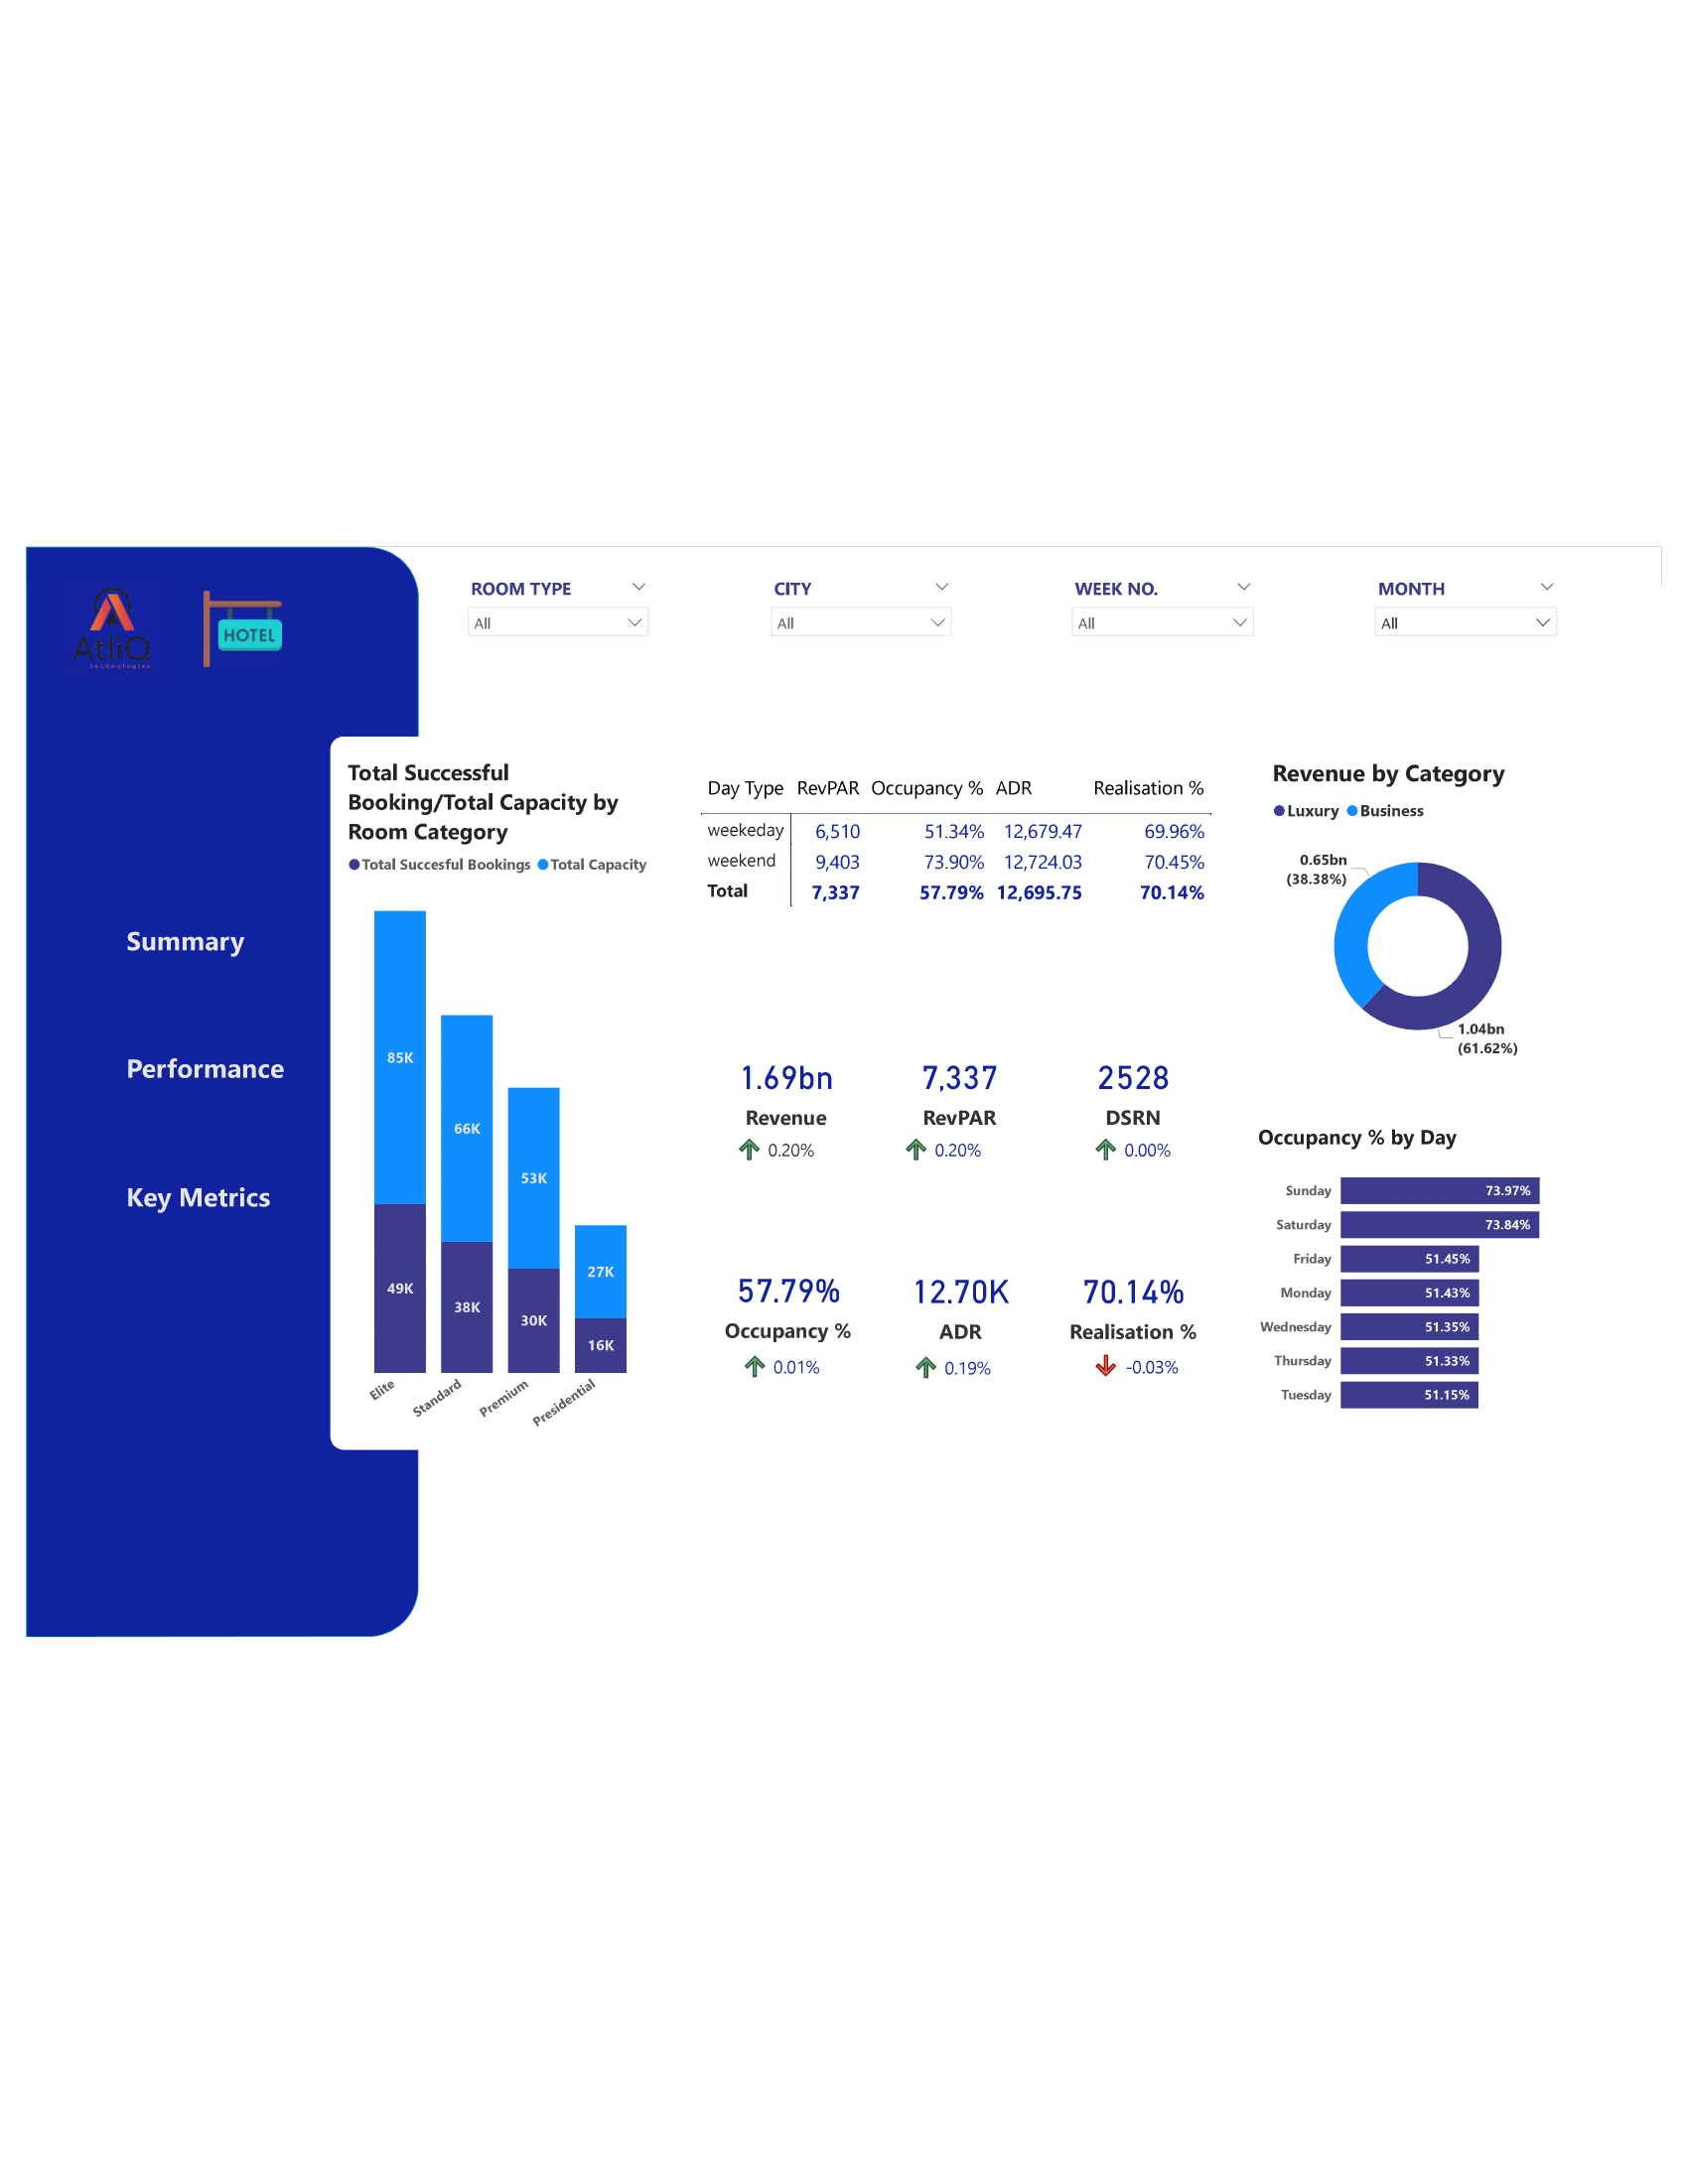

The page's visual inventory and layout, read from the dashboard file:
{"tool":"powerbi","page":{"name":"Summary","canvas":[1500,1000],"ordinal":0},"visuals":[{"type":"shape","box":[0,0,360.1,1000.3],"z":0},{"type":"shape","box":[610.3,174.1,496.6,179.3],"z":1000},{"type":"shape","box":[1124.1,172.4,312.1,315.5],"z":2000},{"type":"shape","box":[1124.1,512.1,312.1,313.8],"z":3000},{"type":"shape","box":[610.3,375.9,496.6,451.7],"z":4000},{"type":"pivotTable","fields":{"Rows":["dim_date.day_type"],"Values":["Key_Measures.RevPAR","Key_Measures.Occupancy %","Key_Measures.ADR","Key_Measures.Realisation %"]},"box":[614.8,200.4,480.6,137.6],"z":5000},{"type":"donutChart","title":"Revenue by Category","fields":{"Category":["dim_hotels.category"],"Y":["Key_Measures.Revenue"]},"box":[1137.9,191.9,276.8,290.4],"z":6000},{"type":"group","id":"g1","title":"Group 2","box":[613.9,459.1,484.5,327.6],"z":7000},{"type":"shape","box":[278.7,173.8,313.1,654.1],"z":8000},{"type":"lineStackedColumnComboChart","title":"Total Successful Booking/Total Capacity by Room Category","fields":{"Category":["dim_rooms.room_class"],"Y":["Key_Measures.Total Succesful Bookings","Key_Measures.Total Capacity"]},"box":[290.2,191.8,291.8,636.1],"z":9000},{"type":"clusteredBarChart","title":"Occupancy % by Day","fields":{"Category":["dim_date.DayName"],"Y":["Key_Measures.Occupancy %"]},"box":[1124.6,527.9,311.5,280.3],"z":10000},{"type":"actionButton","title":"Summary","box":[88.1,330.5,154.2,57.6],"z":11000},{"type":"actionButton","title":"Summary","box":[88.1,448.3,154.2,57.6],"z":12000},{"type":"actionButton","title":"Summary","box":[88.1,566.1,154.2,57.6],"z":13000},{"type":"image","box":[25.8,22.5,106.2,104.6],"z":14000},{"type":"image","box":[157.6,35.6,81.4,79.7],"z":15000},{"type":"tableEx","fields":{"Values":["Key_Measures.Revenue WoW change %"]},"box":[641.5,507.4,110.3,79.3],"z":15000,"group":"g1"},{"type":"card","fields":{"Values":["Key_Measures.Revenue"]},"box":[613.9,459.1,165.5,75.9],"z":15500,"group":"g1"},{"type":"slicer","fields":{"Values":["dim_rooms.room_class"]},"box":[394.9,22,186.4,76.3],"z":16000},{"type":"tableEx","fields":{"Values":["Key_Measures.RevPAR WoW change %"]},"box":[794.7,507.4,110.3,79.3],"z":16500,"group":"g1"},{"type":"card","fields":{"Values":["Key_Measures.RevPAR"]},"box":[773.3,459.1,165.5,75.9],"z":17000,"group":"g1"},{"type":"slicer","fields":{"Values":["dim_hotels.city"]},"box":[672.9,22,186.4,76.3],"z":17000},{"type":"slicer","fields":{"Values":["dim_date.week no"]},"box":[949.2,22,186.4,76.3],"z":18000},{"type":"tableEx","fields":{"Values":["Key_Measures.DSRN WoW change %"]},"box":[968.8,507.4,110.3,81],"z":18000,"group":"g1"},{"type":"card","fields":{"Values":["Key_Measures.DSRN"]},"box":[932.6,459.1,165.5,75.9],"z":18500,"group":"g1"},{"type":"slicer","fields":{"Values":["dim_date.mmm yy"]},"box":[1227.1,22,186.4,76.3],"z":19000},{"type":"tableEx","fields":{"Values":["Key_Measures.Occupancy WoW change %"]},"box":[646.6,705.6,110.3,81],"z":19500,"group":"g1"},{"type":"shape","box":[278.5,174.9,1158.3,653.9],"z":20000},{"type":"tableEx","fields":{"Values":["Key_Measures.ADR WoW change %"]},"box":[803.5,707.4,110.3,79.3],"z":21000,"group":"g1"},{"type":"tableEx","fields":{"Values":["Key_Measures.Realisation WoW change %"]},"box":[969.1,705.6,110.3,79.3],"z":22000,"group":"g1"},{"type":"card","fields":{"Values":["Key_Measures.Occupancy %"]},"box":[615.6,650.6,166.1,83.1],"z":23000,"group":"g1"},{"type":"card","fields":{"Values":["Key_Measures.Realisation %"]},"box":[932.9,655.6,165.5,75.9],"z":23500,"group":"g1"},{"type":"card","fields":{"Values":["Key_Measures.ADR"]},"box":[774.2,655.6,165.5,75.9],"z":24000,"group":"g1"}]}

Visuals, with their boxes on the page's 1500x1000 design canvas (x1, y1, x2, y2). These are canvas units, not pixel positions in the 1688x2184 screenshot, which may show the page scaled, cropped or inside an application window:
shape: 0:0:360:1000
shape: 610:174:1107:353
shape: 1124:172:1436:488
shape: 1124:512:1436:826
shape: 610:376:1107:828
pivotTable - dim_date.day_type x Key_Measures.RevPAR: 615:200:1095:338
"Revenue by Category" donutChart: 1138:192:1415:482
"Group 2" group: 614:459:1098:787
shape: 279:174:592:828
"Total Successful Booking/Total Capacity by Room Category" lineStackedColumnComboChart: 290:192:582:828
"Occupancy % by Day" clusteredBarChart: 1125:528:1436:808
"Summary" actionButton: 88:330:242:388
"Summary" actionButton: 88:448:242:506
"Summary" actionButton: 88:566:242:624
image: 26:22:132:127
image: 158:36:239:115
tableEx - Key_Measures.Revenue WoW change %: 642:507:752:587
card - Key_Measures.Revenue: 614:459:779:535
slicer - dim_rooms.room_class: 395:22:581:98
tableEx - Key_Measures.RevPAR WoW change %: 795:507:905:587
card - Key_Measures.RevPAR: 773:459:939:535
slicer - dim_hotels.city: 673:22:859:98
slicer - dim_date.week no: 949:22:1136:98
tableEx - Key_Measures.DSRN WoW change %: 969:507:1079:588
card - Key_Measures.DSRN: 933:459:1098:535
slicer - dim_date.mmm yy: 1227:22:1414:98
tableEx - Key_Measures.Occupancy WoW change %: 647:706:757:787
shape: 278:175:1437:829
tableEx - Key_Measures.ADR WoW change %: 804:707:914:787
tableEx - Key_Measures.Realisation WoW change %: 969:706:1079:785
card - Key_Measures.Occupancy %: 616:651:782:734
card - Key_Measures.Realisation %: 933:656:1098:732
card - Key_Measures.ADR: 774:656:940:732
